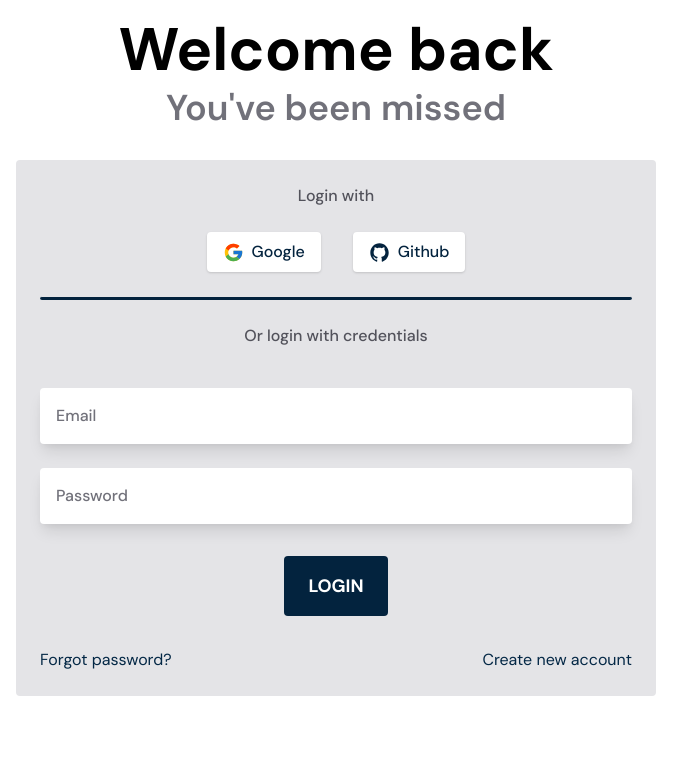
Test: Login button is disabled if clicked on without filling the form
This screenshot has width=673, height=777.
Click the button "Login" at (336,586), box [284,556,388,616]
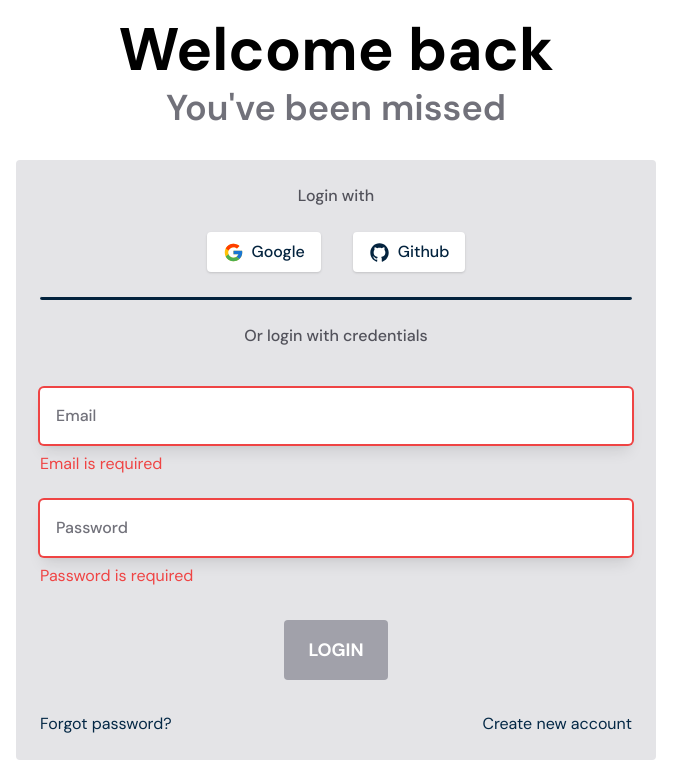
Result: the button "Login" is disabled at [284,620,388,680]
